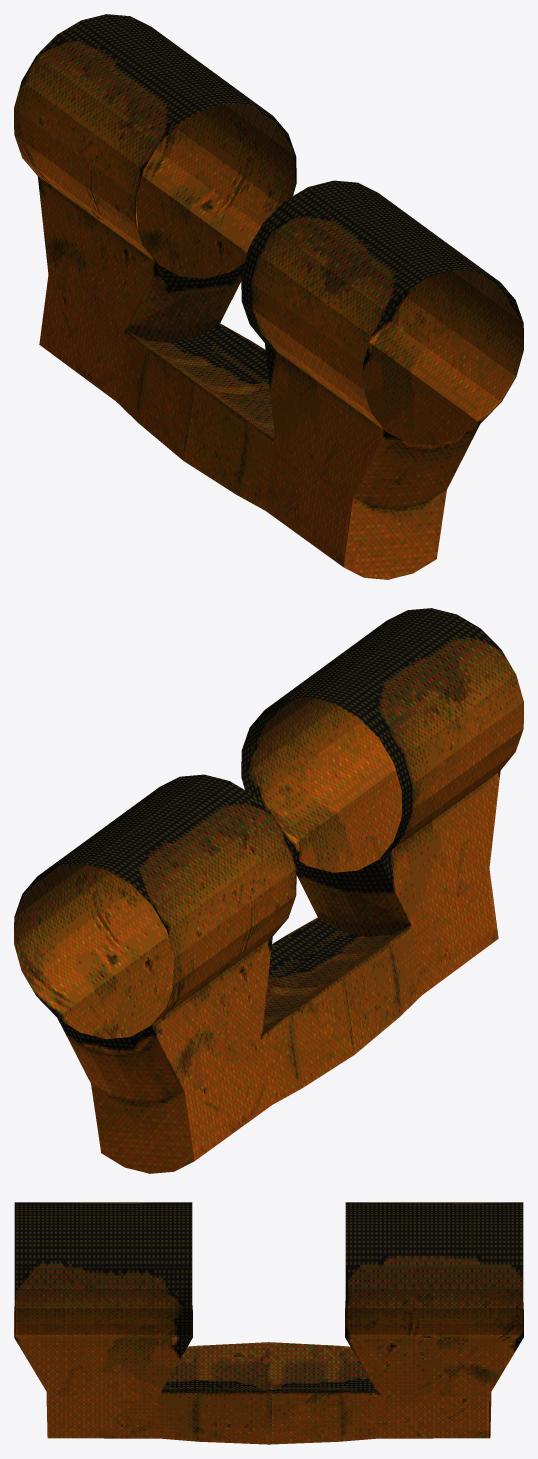
Rendered from Switch_Solo.fbx.
The picture shows the model from 3 angles, top to bottom: view 1: azimuth 30°, elevation 25°; view 2: azimuth 150°, elevation 25°; view 3: azimuth 270°, elevation 25°; orthographic projection. The views are drawn at different scales.
Visible parts, largest first — view 1: polySurface32; view 2: polySurface32; view 3: polySurface32.
Part boxes in pixels (box(x1,y1,x2,y2)): polySurface32: box(14, 14, 523, 579); polySurface32: box(14, 608, 523, 1173); polySurface32: box(14, 1202, 523, 1444).
Size of the model in its own units: 0.0609 by 0.1129 by 0.2228.
